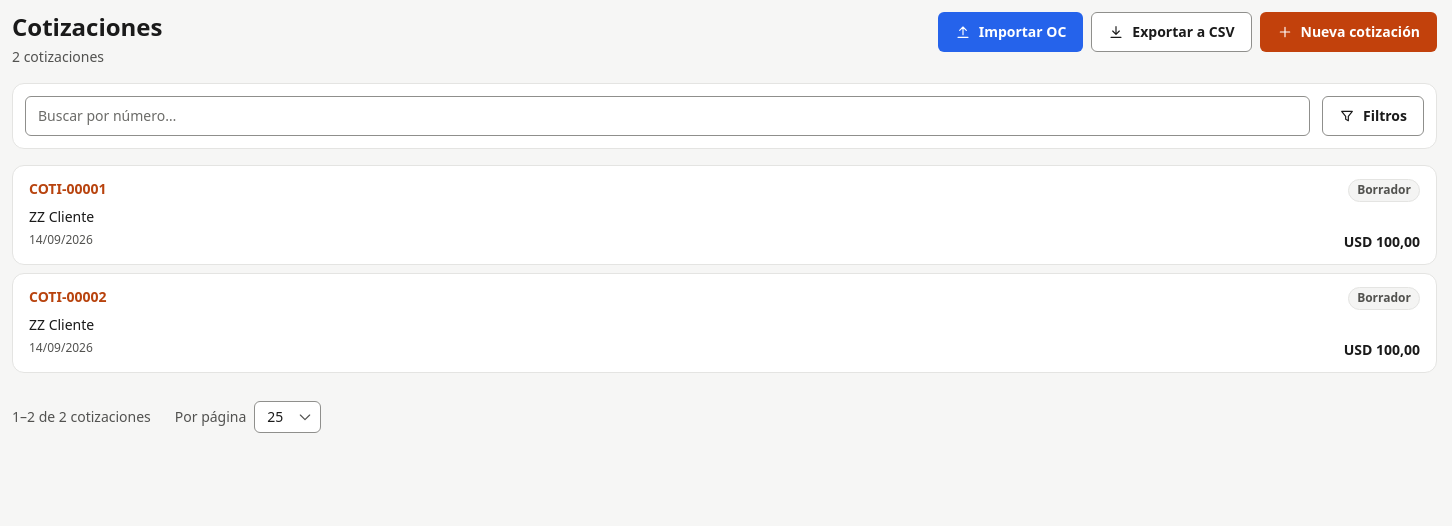
Scenario: Listado de Ventas: estados › mobile: filtros plegados detrás de «Filtros», la búsqueda queda a la vista
The image size is (1452, 526).
Expected: the search field named "Buscar por número de documento" is shown, x1=25 y1=96 x2=1310 y2=136
Click the button "Filtros".
click(1373, 116)  # box x1=1322 y1=96 x2=1424 y2=136
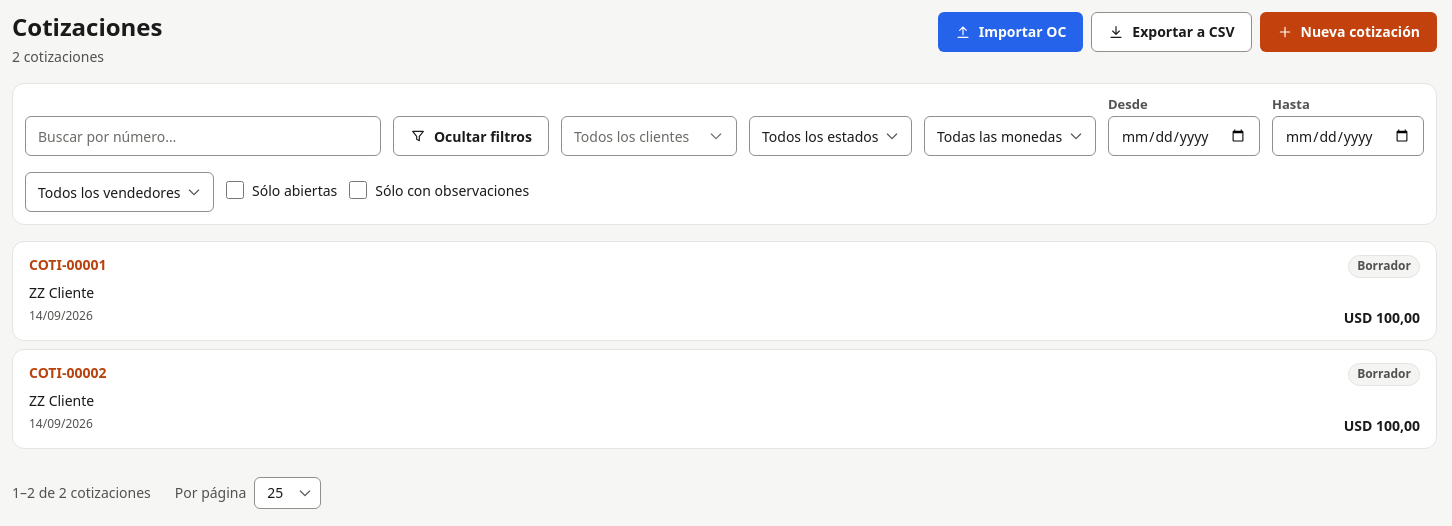
Expected: the button "Ocultar filtros" is expanded, x1=393 y1=116 x2=549 y2=156
